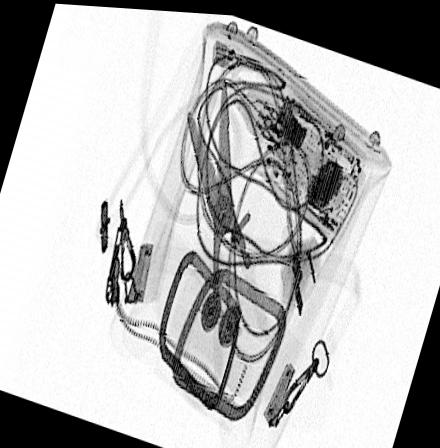Scissors: (183, 60, 257, 323)
